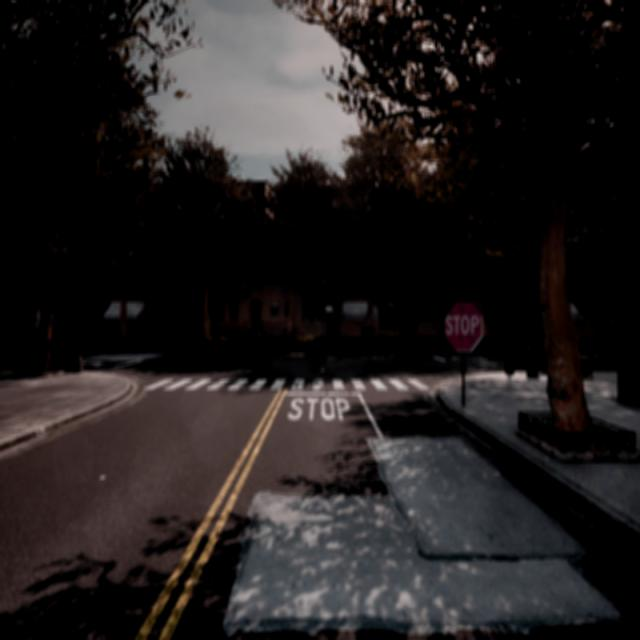stop sign: (441, 298, 486, 355), (444, 312, 481, 337)
